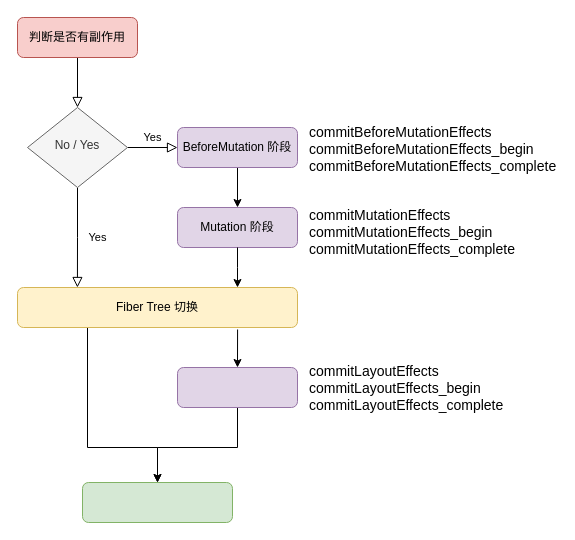
Some shapes in this 575 by 540 pixel diagram are drawn without their labels. The shapes that lost their labels are listed below. From the top down, each one's box as (x1, y1, x2, y2) in pixels, then its label:
(176, 366, 298, 408): Layout 阶段
(82, 482, 232, 522): 调度新的更新
